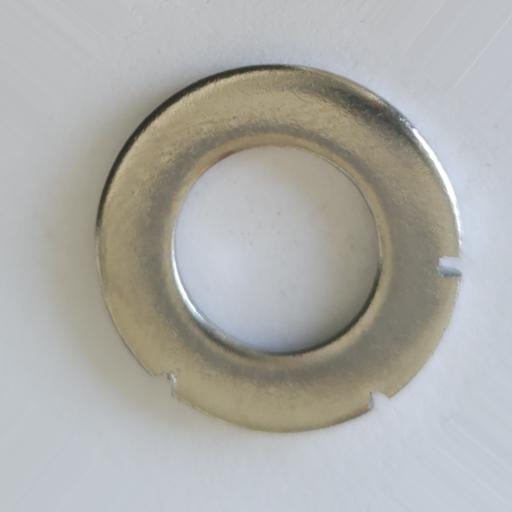burr: (149, 369, 178, 398), (437, 253, 463, 279), (368, 388, 391, 411)
